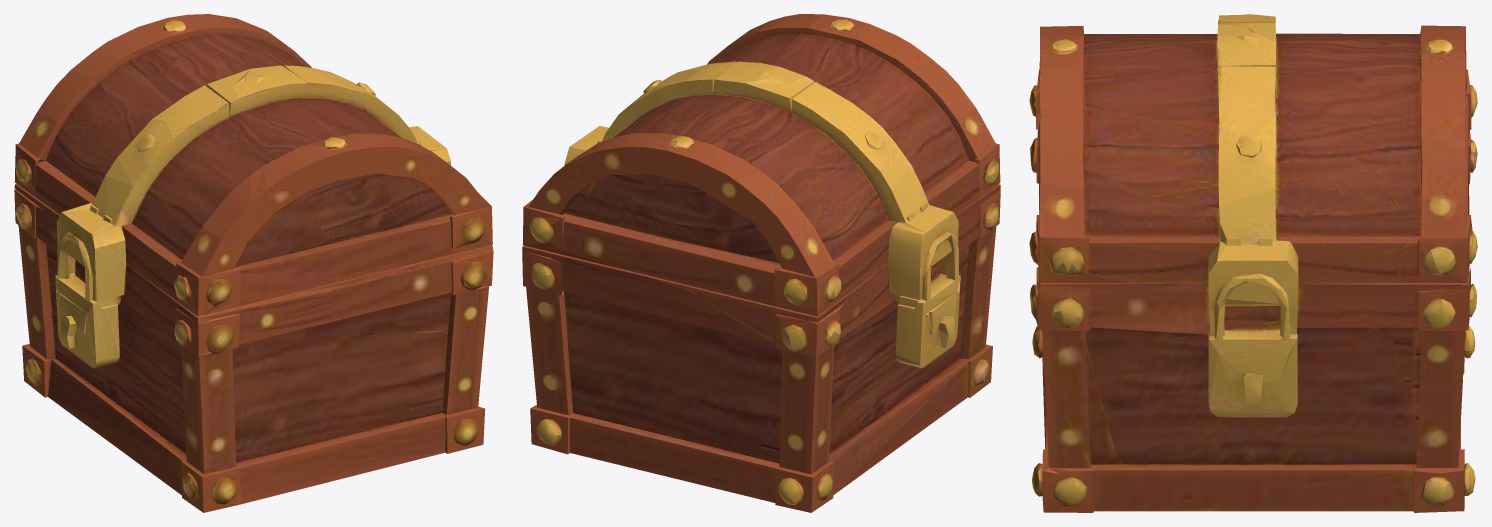
The model's file is kiste.glb.
3 renders of one model, left to right at view 1: azimuth 30°, elevation 25°; view 2: azimuth 150°, elevation 25°; view 3: azimuth 270°, elevation 25°, orthographic. The views are drawn at different scales.
Size of the model in its own units: 1.9 by 1.62 by 1.66.
1 material, 1 textured.
